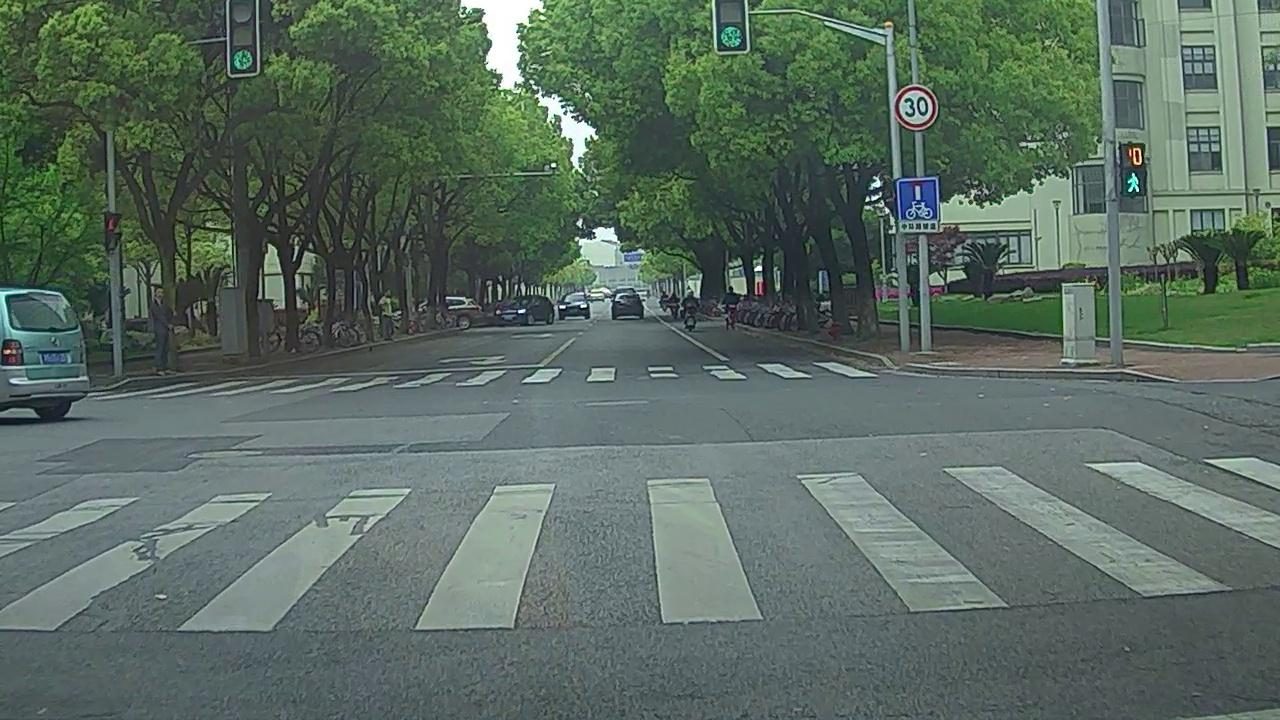traffic_light: (228, 1, 259, 77), (714, 1, 749, 53)
